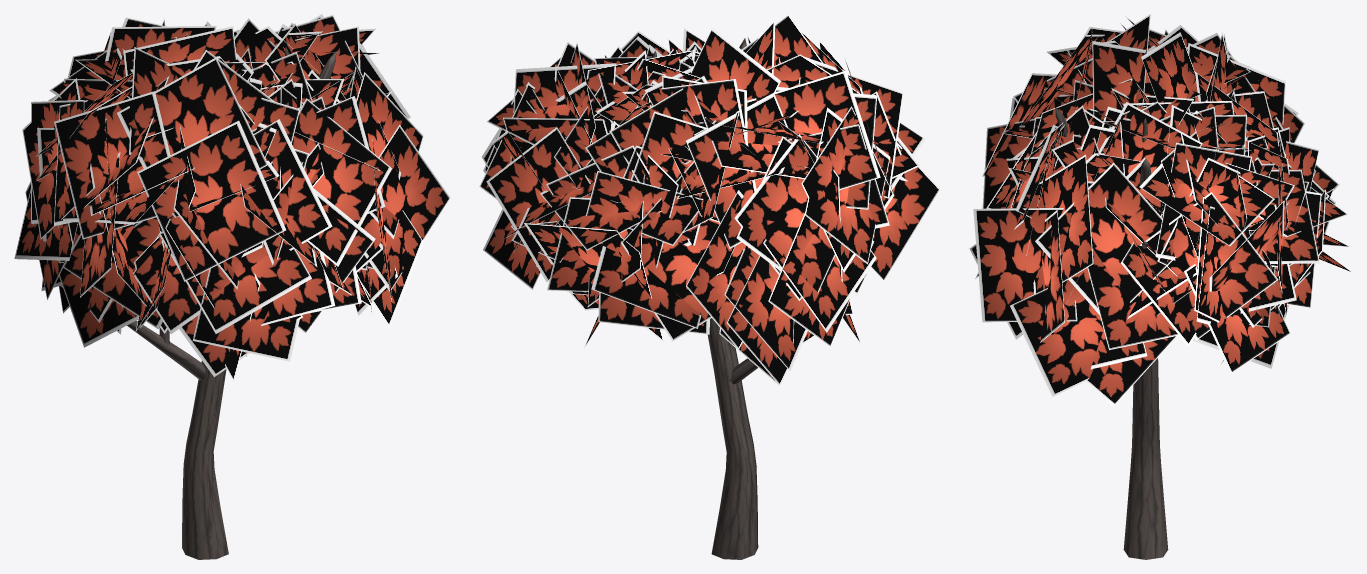
The model's file is MapleTree_4.glb.
3 renders of one model, left to right at view 1: azimuth 30°, elevation 25°; view 2: azimuth 150°, elevation 25°; view 3: azimuth 270°, elevation 25°, orthographic. The views are drawn at different scales.
Parts seen in each view (by area): view 1: MapleTree_4; view 2: MapleTree_4; view 3: MapleTree_4.
Boxes of the visible parts, x1=… form: MapleTree_4: x1=14, y1=14, x2=450, y2=559; MapleTree_4: x1=479, y1=14, x2=940, y2=559; MapleTree_4: x1=969, y1=14, x2=1351, y2=559.
Size of the model in its own units: 2.77 by 3.59 by 2.43.
2 materials, 2 textured.
